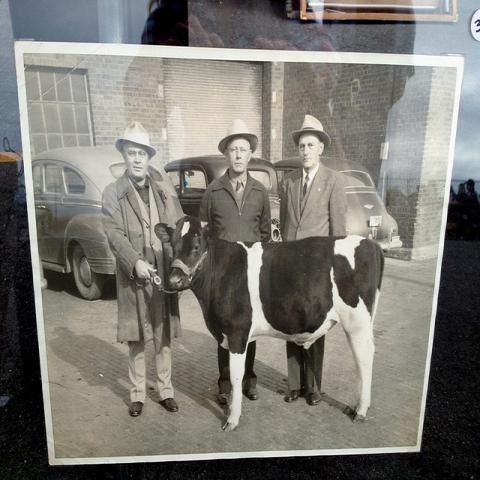car: (30, 145, 126, 302), (273, 156, 403, 250), (167, 158, 280, 236)
